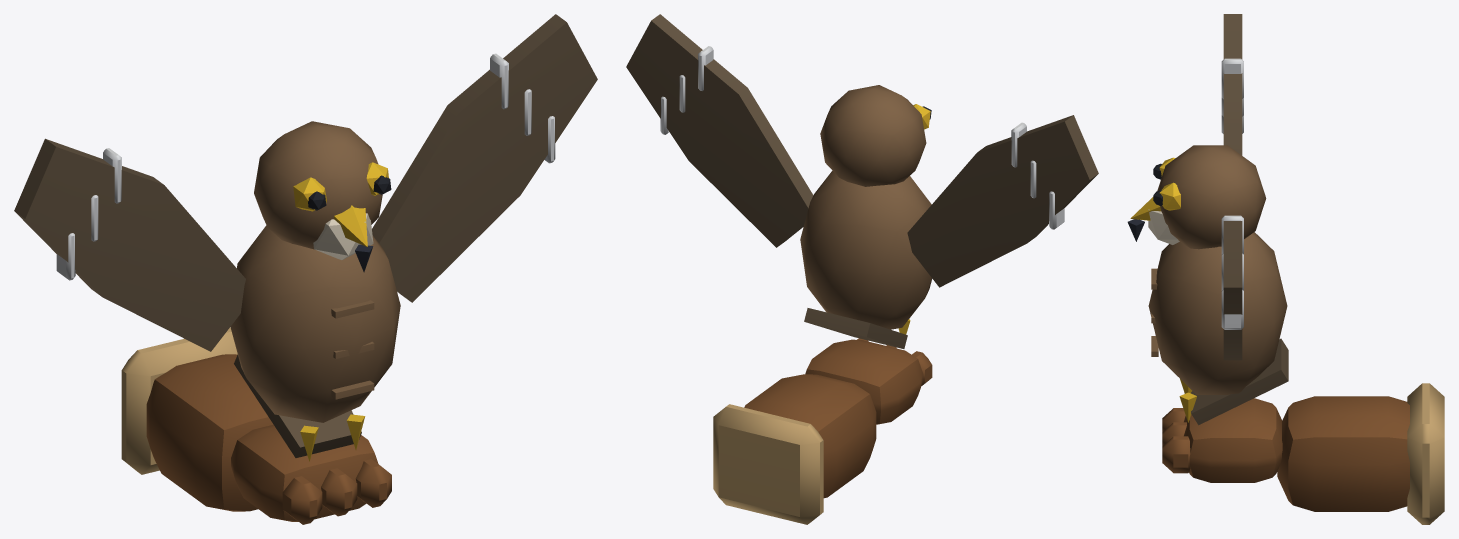
Rendered from w_y_hawk.glb.
3 views of the same model, side by side, from view 1: azimuth 30°, elevation 25°; view 2: azimuth 150°, elevation 25°; view 3: azimuth 270°, elevation 25° (orthographic). The views are drawn at different scales.
Visible parts, largest first — view 1: body; view 2: body; view 3: body.
Part boxes in pixels (bbox=[...]): body: bbox=[14, 14, 597, 524]; body: bbox=[626, 14, 1098, 524]; body: bbox=[1127, 14, 1444, 524].
Bounding box in the file's own units: 0.37 × 0.2875 × 0.2135.
